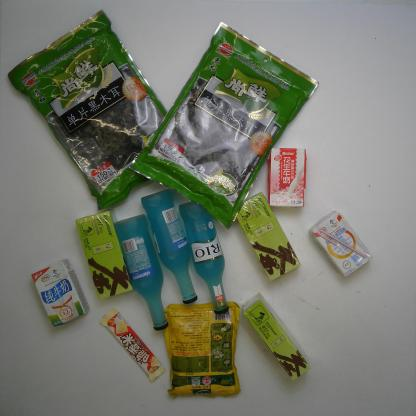Alcohol: (140, 186, 199, 306), (114, 213, 170, 332), (178, 198, 231, 315)
Chocolate: (98, 307, 166, 383)
Dried Food: (126, 20, 320, 231), (6, 7, 173, 214)
Instant Drink: (241, 292, 312, 382), (235, 190, 302, 283), (74, 208, 134, 301)
Milk: (307, 209, 374, 279), (29, 257, 90, 329), (264, 147, 308, 210)
Seasoner: (161, 300, 243, 398)
